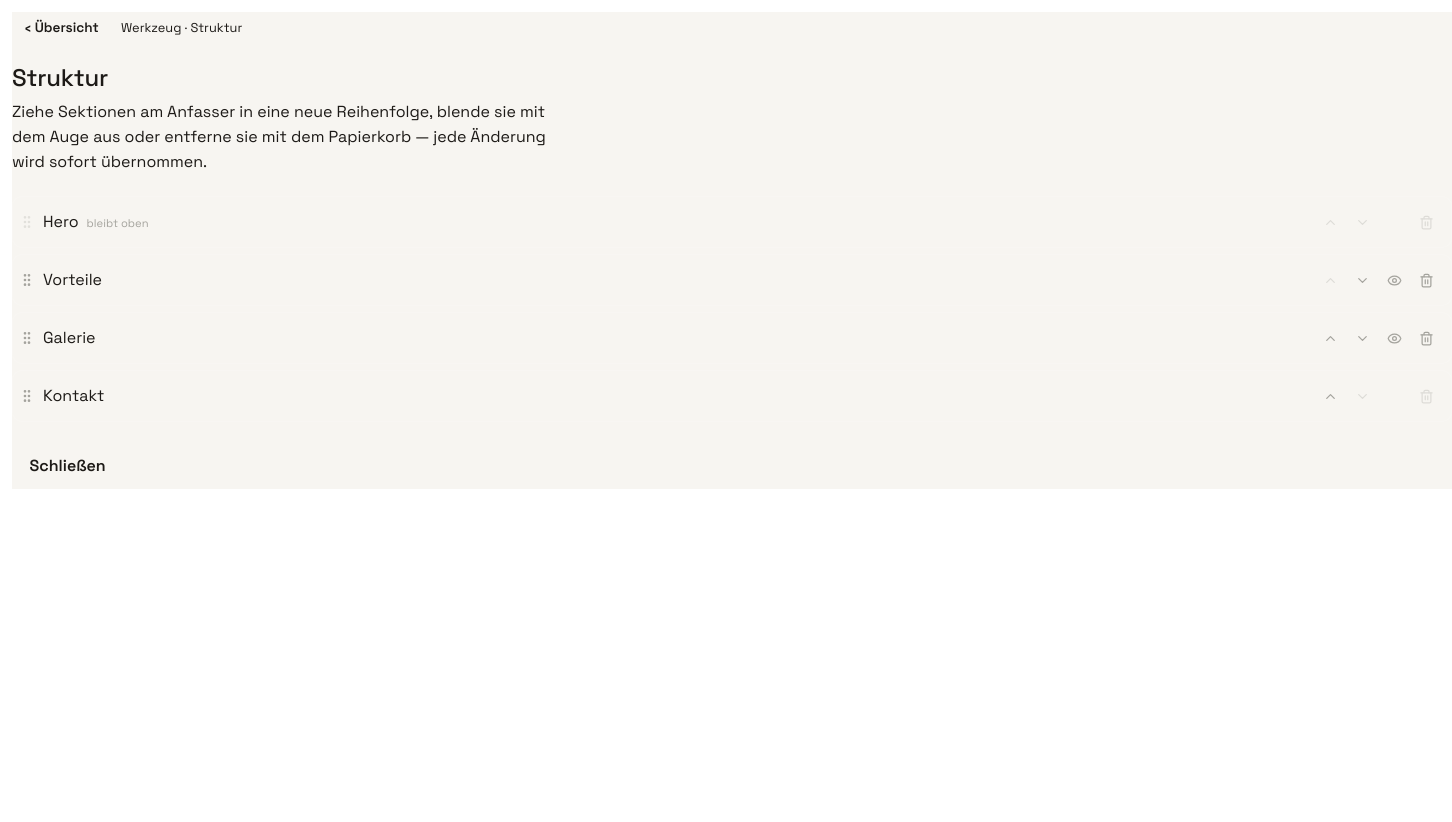
it: Struktur-Panel: Abschnitt entfernen › gebuchtes Extra: Hinweis, dass es gebucht bleibt
The width and height of the screenshot is (1452, 822).
Step 1. Click the button named "Galerie entfernen" → [1426, 338], box [1411,323,1441,353]
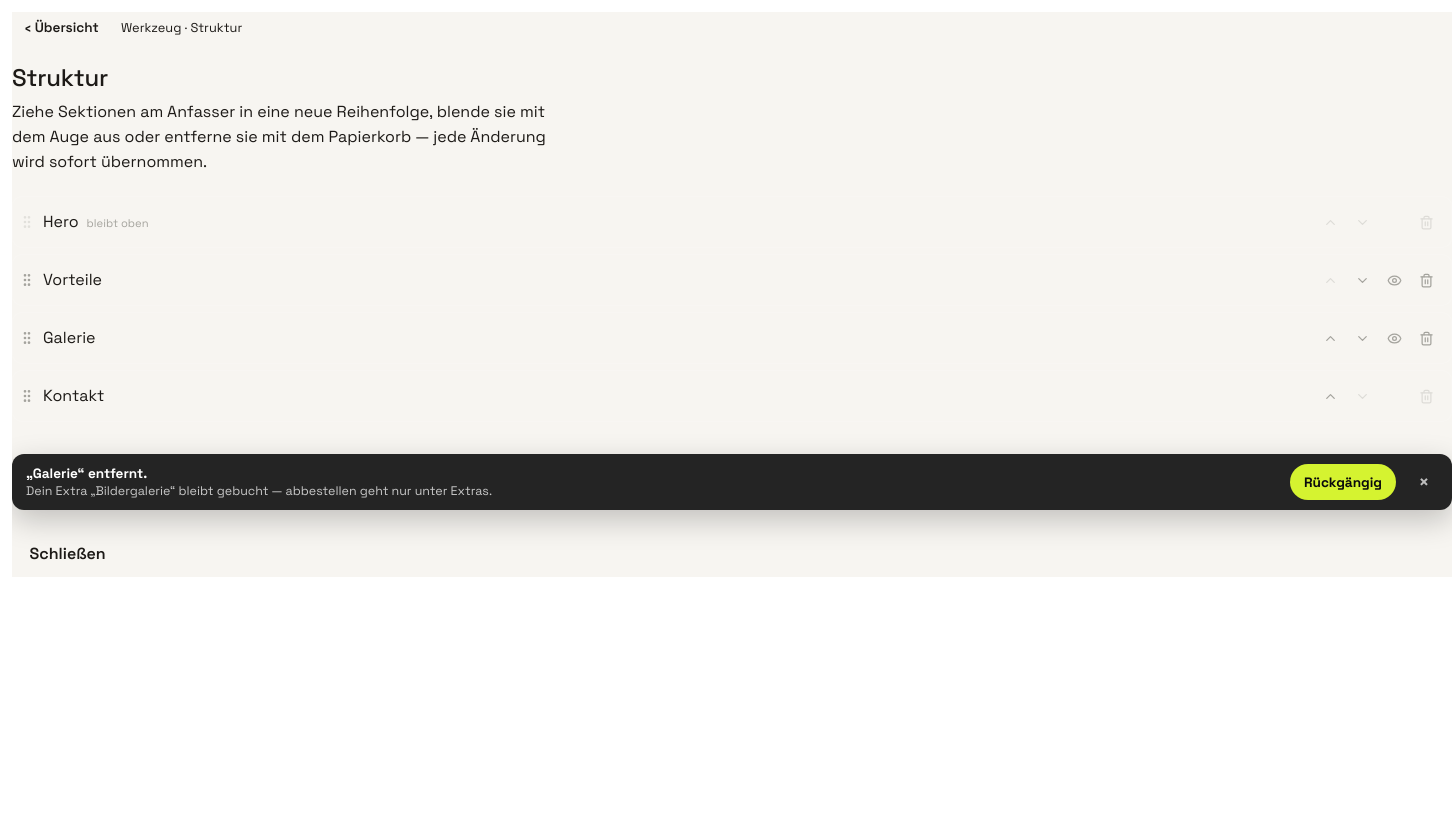
Check: the message shows "bleibt gebucht", box [26,483,492,499]
